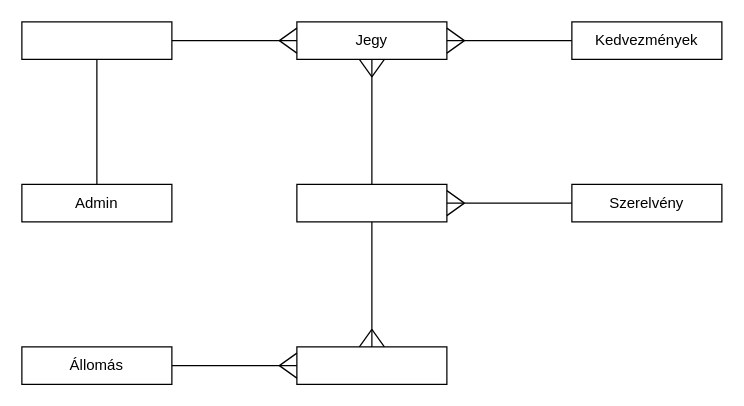
Image size: 744x406. Some labels were removed from this diagram. The centre of each missing label's shape, as x and y in pixels:
"Járat" belongs at pixel 371 202.
"Járat-Állomás" belongs at pixel 371 365.
"Tag" belongs at pixel 96 40.
